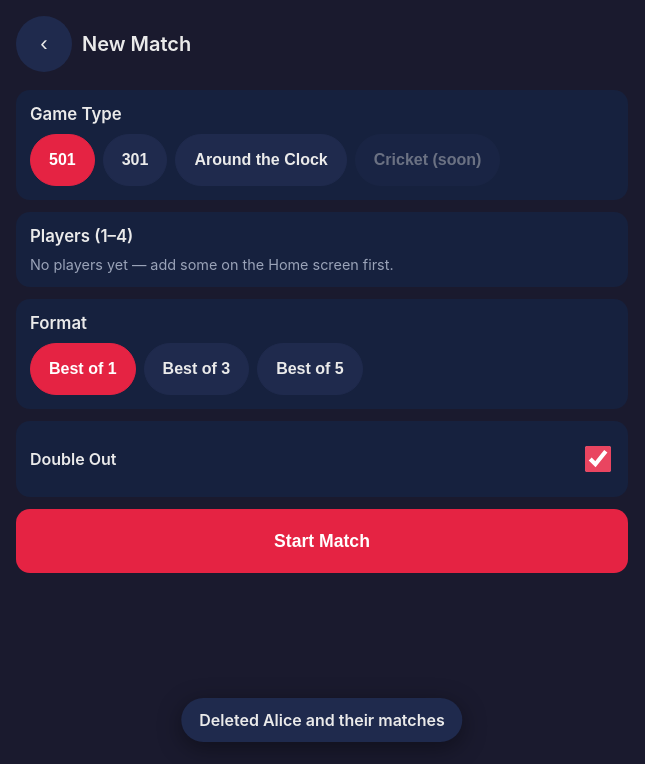
Scenario: screens render without crashing › Setup renders game-type options and shows the ATC ring picker
The width and height of the screenshot is (645, 764).
Check: the heading "Game Type" is shown, box [30,104,122,124]
Check: the text "Double Out" is shown, box [30,449,116,469]
Click the button "Around the Clock" at (261, 160), box [175,134,347,186]
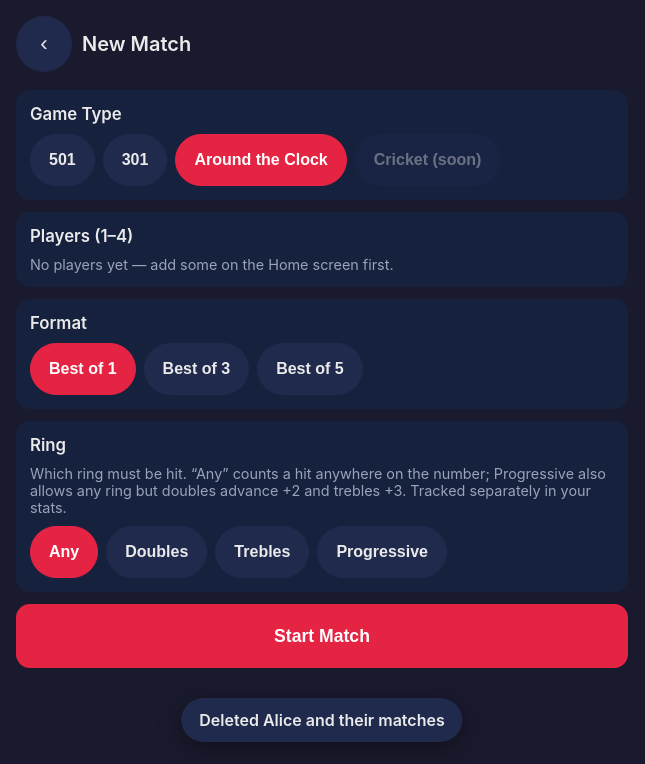
Check: the heading "Ring" is shown, box [30,435,66,455]
Check: the button "Progressive" is shown, box [317,526,447,578]
